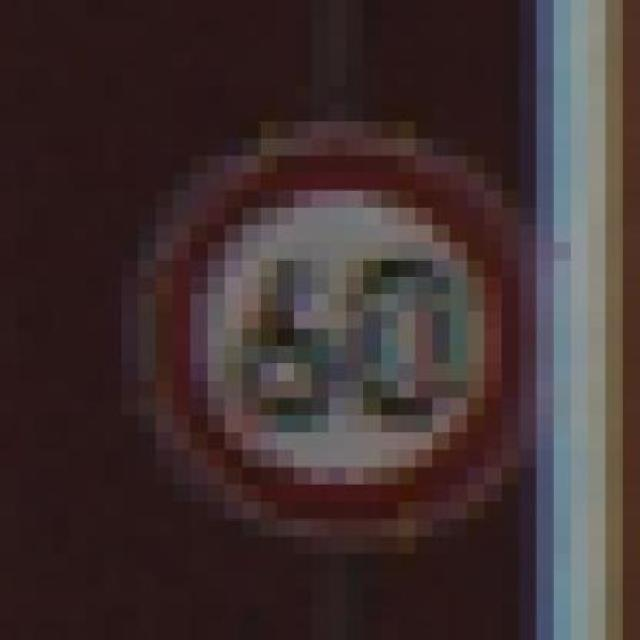forb_speed_over_60: (154, 141, 526, 535)
